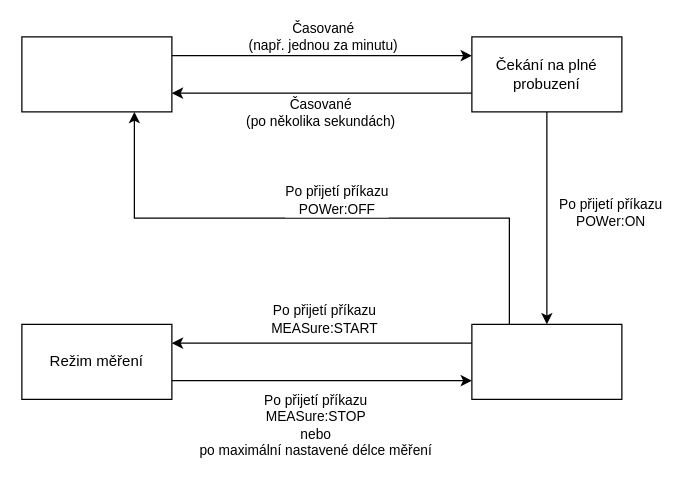
Image size: 684x480. Some labels were removed from this diagram. The centre of each missing label's shape, as x and y in pixels:
"Aktivní režim" belongs at (x=546, y=361).
"Režim hlubokého spánku" belongs at (x=96, y=74).
